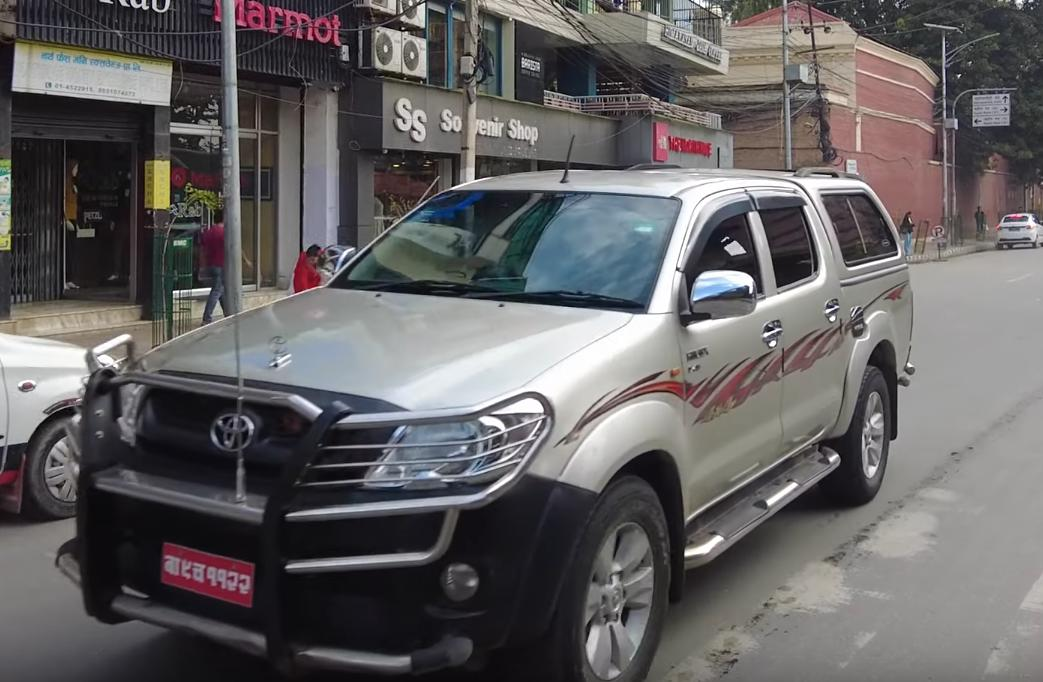SUV: (67, 161, 931, 682)
